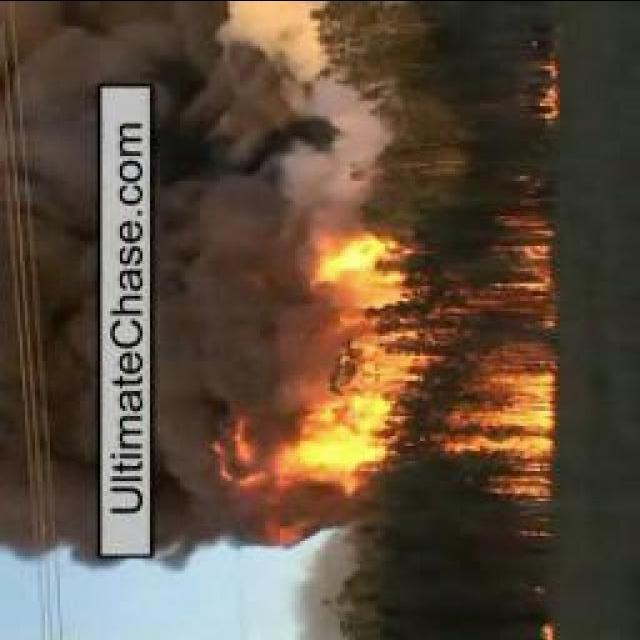Fire: (209, 224, 557, 526), (532, 42, 557, 128)
